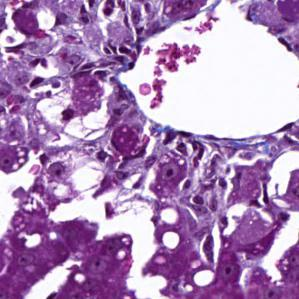inflammation: (4, 0, 60, 50), (103, 115, 156, 163)
